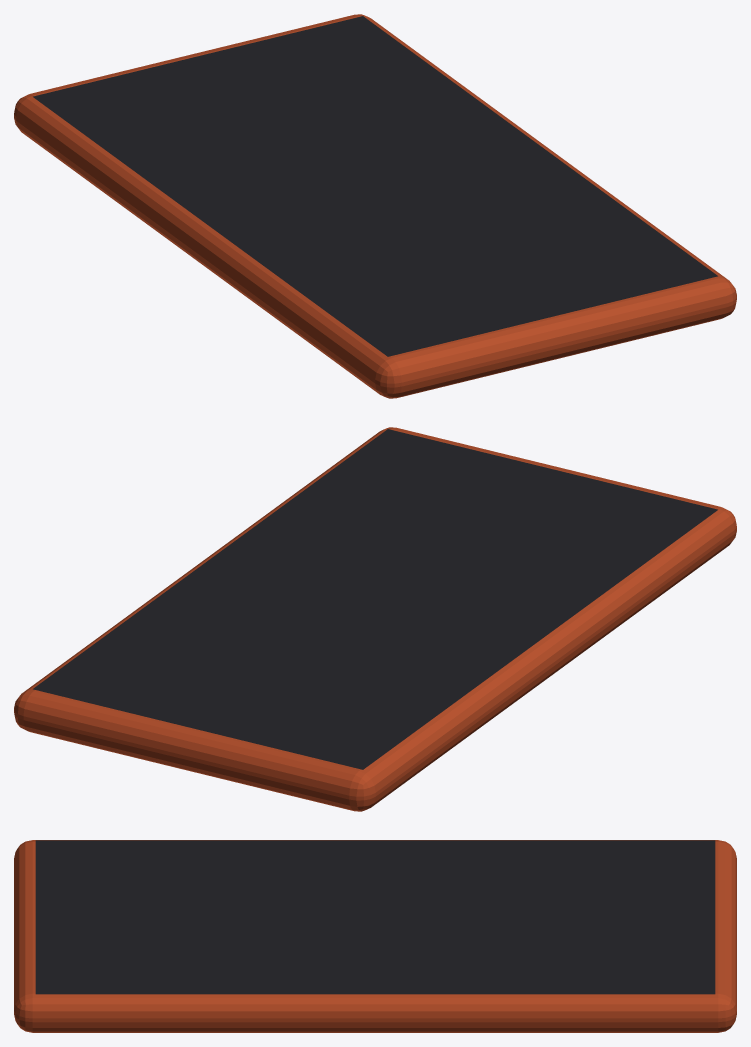
Rendered from Phone_972.glb.
The picture shows the model from 3 angles, top to bottom: view 1: azimuth 30°, elevation 25°; view 2: azimuth 150°, elevation 25°; view 3: azimuth 270°, elevation 25°; orthographic projection. The views are drawn at different scales.
Visible parts, largest first — view 1: Phone_Screen, Phone_Body; view 2: Phone_Screen, Phone_Body; view 3: Phone_Screen, Phone_Body.
Boxes of the visible parts, x1=… form: Phone_Screen: x1=33, y1=16, x2=717, y2=356; Phone_Body: x1=14, y1=14, x2=736, y2=398; Phone_Screen: x1=33, y1=429, x2=717, y2=769; Phone_Body: x1=14, y1=427, x2=736, y2=811; Phone_Screen: x1=35, y1=840, x2=715, y2=994; Phone_Body: x1=14, y1=840, x2=736, y2=1032.
Bounding box in the file's own units: 0.0779 × 0.0082 × 0.142.
